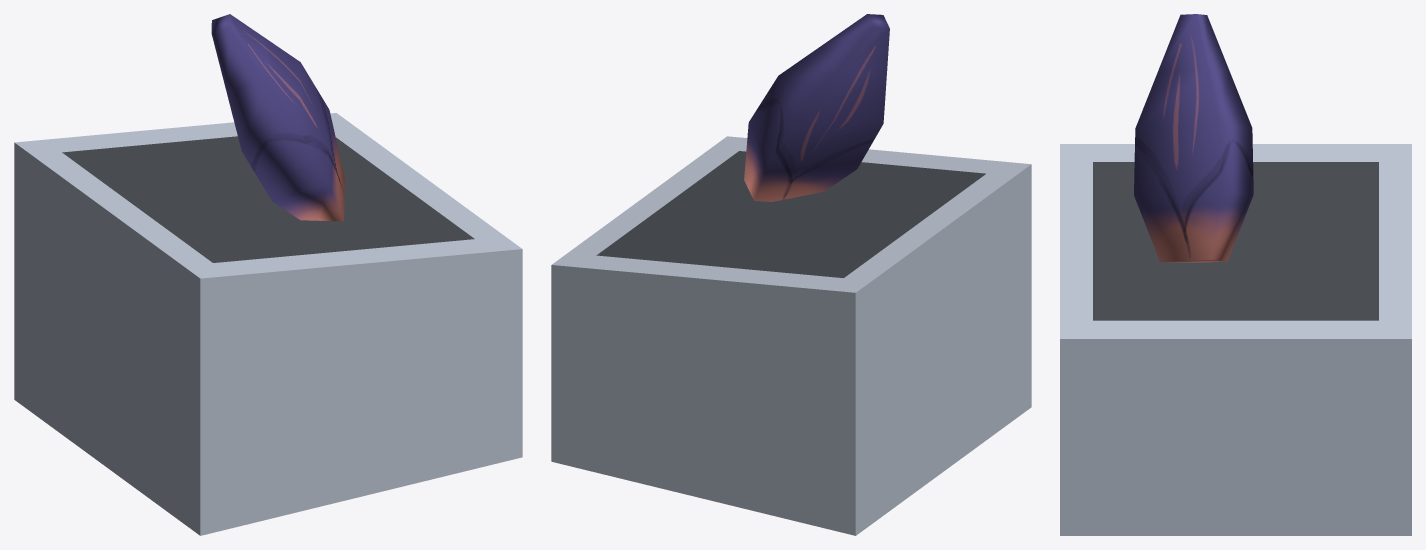
Rendered from BoxSeed_Purple.fbx.
3 views of the same model, side by side, from view 1: azimuth 30°, elevation 25°; view 2: azimuth 150°, elevation 25°; view 3: azimuth 270°, elevation 25° (orthographic). The views are drawn at different scales.
Parts seen in each view (by area): view 1: pCube7, All_plant:SeedPurple:pasted__pCube1; view 2: pCube7, All_plant:SeedPurple:pasted__pCube1; view 3: pCube7, All_plant:SeedPurple:pasted__pCube1.
Part boxes in pixels (left/top/right/bottom): pCube7: left=14, top=113, right=522, bottom=535; All_plant:SeedPurple:pasted__pCube1: left=211, top=14, right=344, bottom=221; pCube7: left=551, top=136, right=1031, bottom=535; All_plant:SeedPurple:pasted__pCube1: left=744, top=14, right=889, bottom=201; pCube7: left=1060, top=144, right=1411, bottom=535; All_plant:SeedPurple:pasted__pCube1: left=1134, top=14, right=1253, bottom=262.
Bounding box in the file's own units: 4.54 × 5.98 × 4.54.
